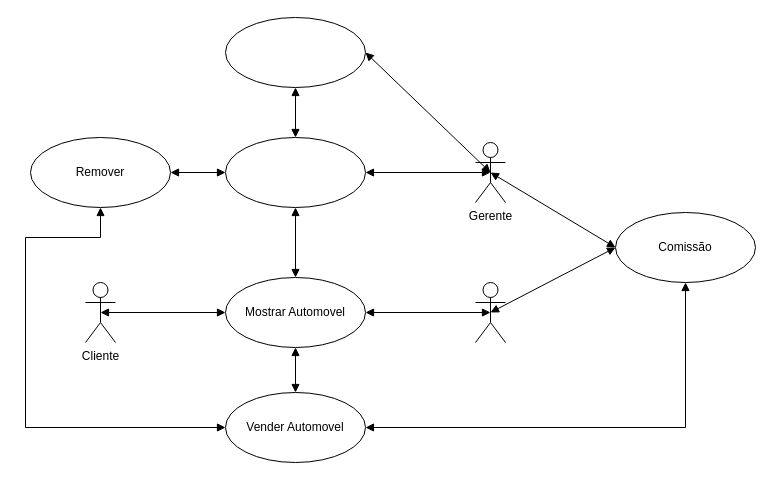
Some shapes in this 773 by 480 pixel diagram are drawn without their labels. The box of each missing label's shape, as (x1, y1, x2, y2) in pixels:
Adicionar Novo Automovel: (224, 16, 366, 88)
Catalogo: (224, 136, 366, 208)
Vendedor: (474, 282, 506, 342)
